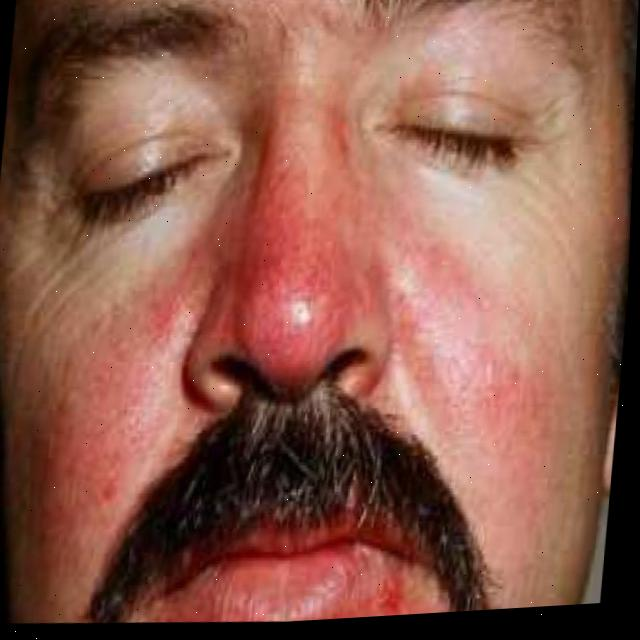Rosacea: (227, 96, 373, 344), (390, 228, 542, 446), (33, 300, 153, 489), (365, 594, 451, 617)
